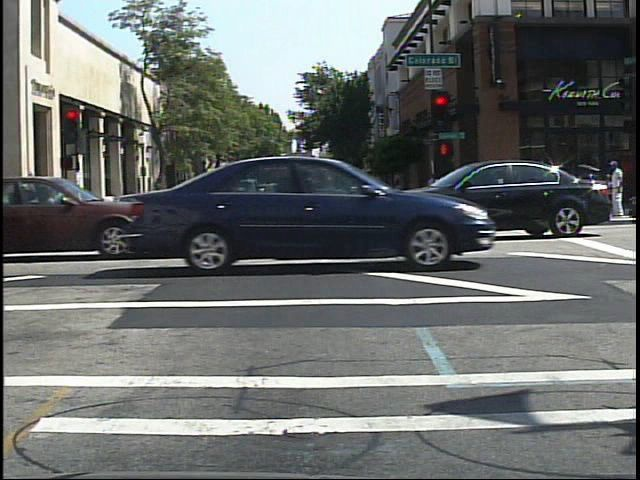person: (605, 156, 631, 221)
